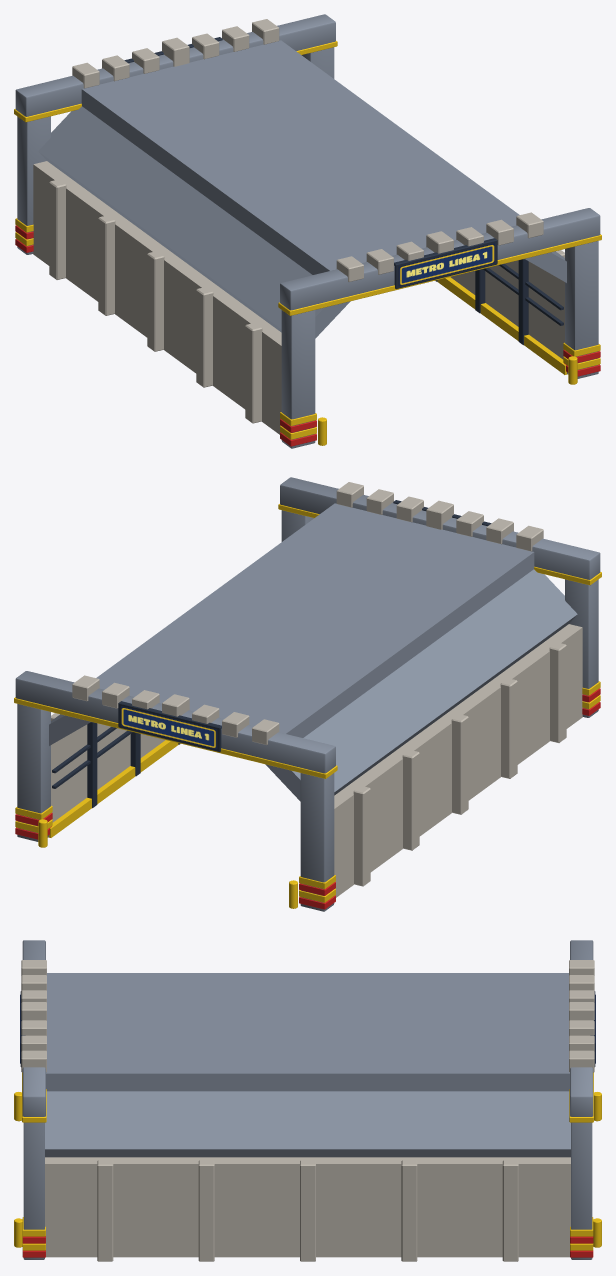
Rendered from tunel_ferroviario.glb.
3 renders of one model, top to bottom at view 1: azimuth 30°, elevation 25°; view 2: azimuth 150°, elevation 25°; view 3: azimuth 270°, elevation 25°, orthographic. The views are drawn at different scales.
Visible parts, largest first — view 1: Tunel_Ferroviario; view 2: Tunel_Ferroviario; view 3: Tunel_Ferroviario.
Part boxes in pixels (x1,y1,x2,y2): Tunel_Ferroviario: [14, 14, 601, 448]; Tunel_Ferroviario: [14, 477, 601, 911]; Tunel_Ferroviario: [14, 940, 601, 1261].
Bounding box in the file's own units: 12.62 × 6.55 × 19.72.
Materials: 7 (1 with a texture image).
